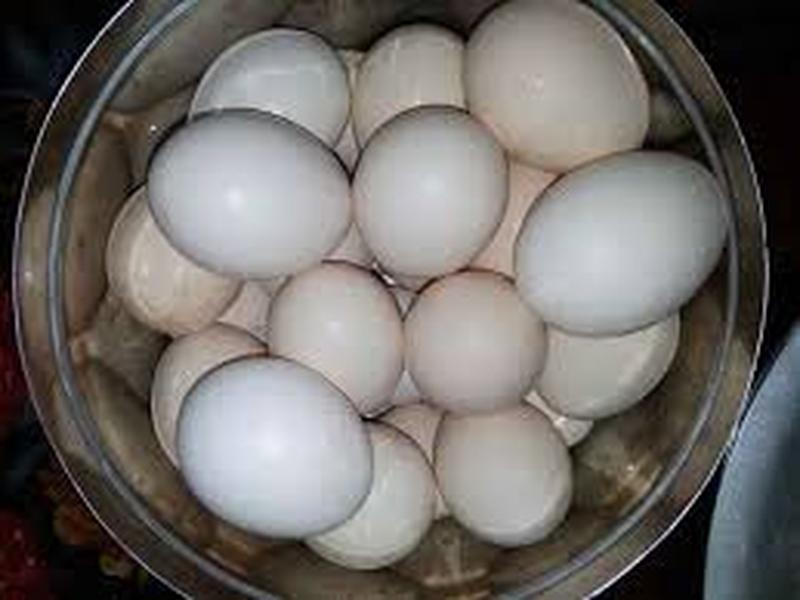egg: (128, 179, 668, 406), (181, 355, 373, 522)
